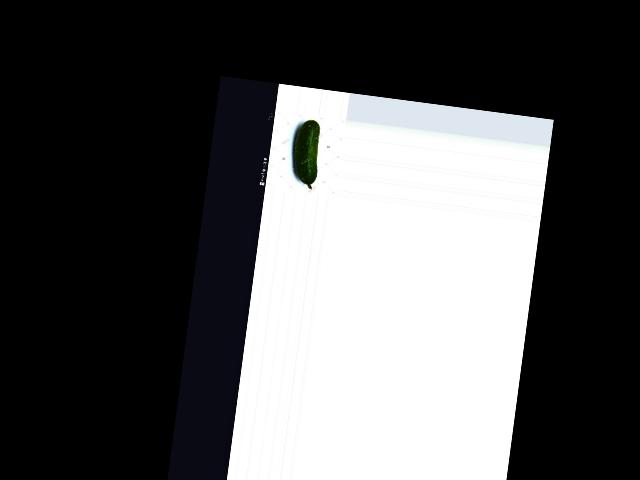cucumber: (289, 117, 324, 189)
